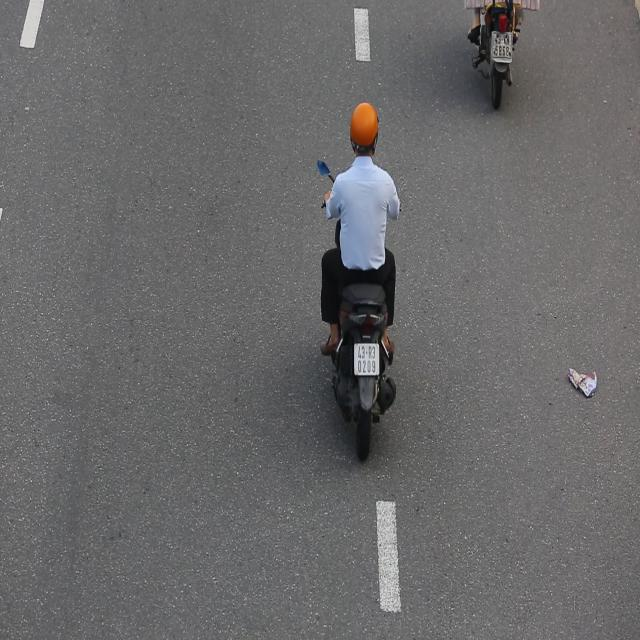motorbike: (314, 98, 407, 465)
